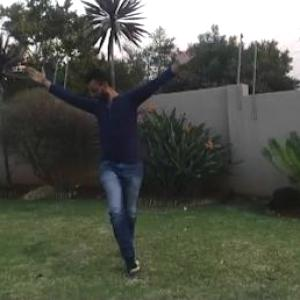takeoff: (22, 51, 190, 273)
